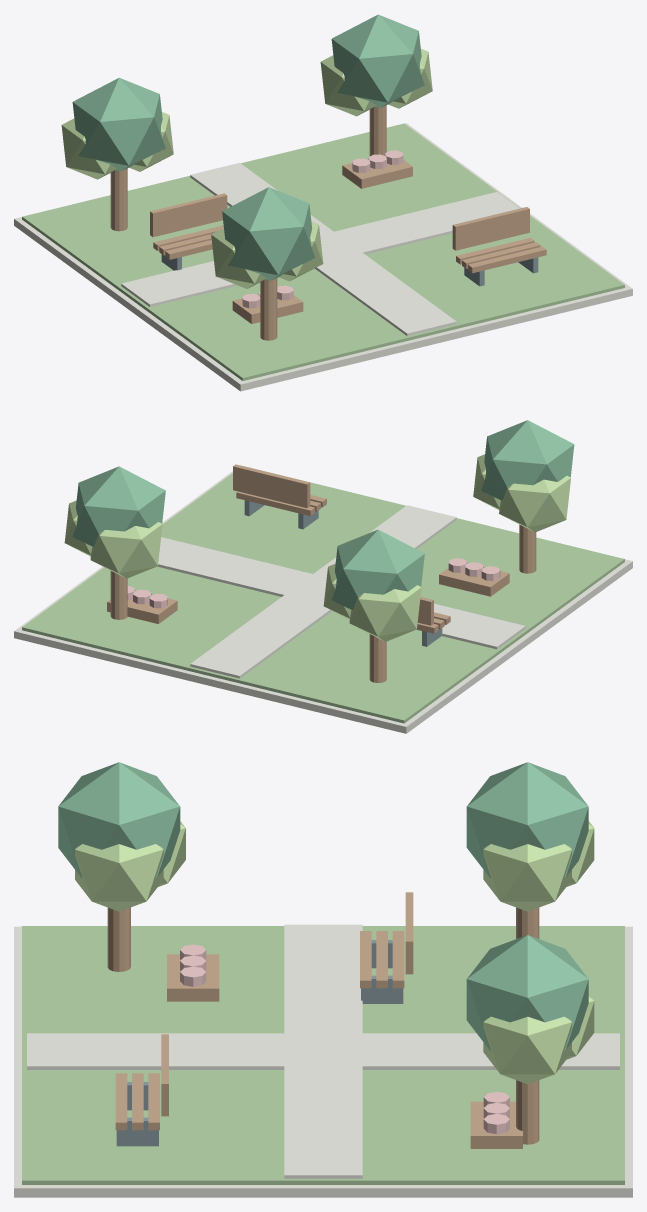
The model's file is remaster_park.glb.
3 views of the same model, one above another, from view 1: azimuth 30°, elevation 25°; view 2: azimuth 150°, elevation 25°; view 3: azimuth 270°, elevation 25° (orthographic). The views are drawn at different scales.
Visible parts, largest first — view 1: lot surface, walking path.001, lot foundation, walking path, tree canopy.003, tree canopy.006, tree canopy, bench back, bench back.001, tree canopy.008, tree canopy.005, tree canopy.002 (+9 smaller); view 2: lot surface, lot foundation, walking path, walking path.001, tree canopy, tree canopy.006, tree canopy.003, tree canopy.008, tree canopy.002, tree canopy.005, bench back, flower bed.001 (+8 smaller); view 3: lot surface, walking path.001, walking path, lot foundation, tree canopy.003, tree canopy.006, tree canopy, tree canopy.001, tree canopy.007, tree canopy.004, flower bed.001, flower bed (+16 smaller).
Boxes of the visible parts, <box> form: lot surface: <box>22,123,624,380</box>; walking path.001: <box>121,192,519,306</box>; lot foundation: <box>14,123,632,391</box>; walking path: <box>190,162,456,336</box>; tree canopy.003: <box>331,14,424,108</box>; tree canopy.006: <box>72,77,165,171</box>; tree canopy: <box>222,187,315,280</box>; bench back: <box>452,207,529,250</box>; bench back.001: <box>150,193,227,237</box>; tree canopy.008: <box>61,118,116,179</box>; tree canopy.005: <box>320,55,376,116</box>; tree canopy.002: <box>211,228,266,288</box>; lot surface: <box>22,466,624,723</box>; lot foundation: <box>14,471,632,733</box>; walking path: <box>190,505,456,678</box>; walking path.001: <box>157,537,525,649</box>; tree canopy: <box>481,420,574,500</box>; tree canopy.006: <box>331,529,424,610</box>; tree canopy.003: <box>72,466,165,546</box>; tree canopy.008: <box>349,585,421,641</box>; tree canopy.002: <box>499,476,570,532</box>; tree canopy.005: <box>90,522,162,578</box>; bench back: <box>233,464,310,508</box>; flower bed.001: <box>439,563,509,596</box>; lot surface: <box>22,926,624,1184</box>; walking path.001: <box>284,924,362,1178</box>; walking path: <box>27,1033,619,1069</box>; lot foundation: <box>14,926,632,1197</box>; tree canopy.003: <box>466,935,588,1050</box>; tree canopy.006: <box>466,762,588,878</box>; tree canopy: <box>58,762,180,878</box>; tree canopy.001: <box>75,844,163,911</box>; tree canopy.007: <box>483,844,571,911</box>; tree canopy.004: <box>483,1016,571,1084</box>; flower bed.001: <box>167,954,219,1001</box>; flower bed: <box>470,1101,522,1148</box>.
Size of the model in its own units: 9.5 by 3.7 by 9.5.
